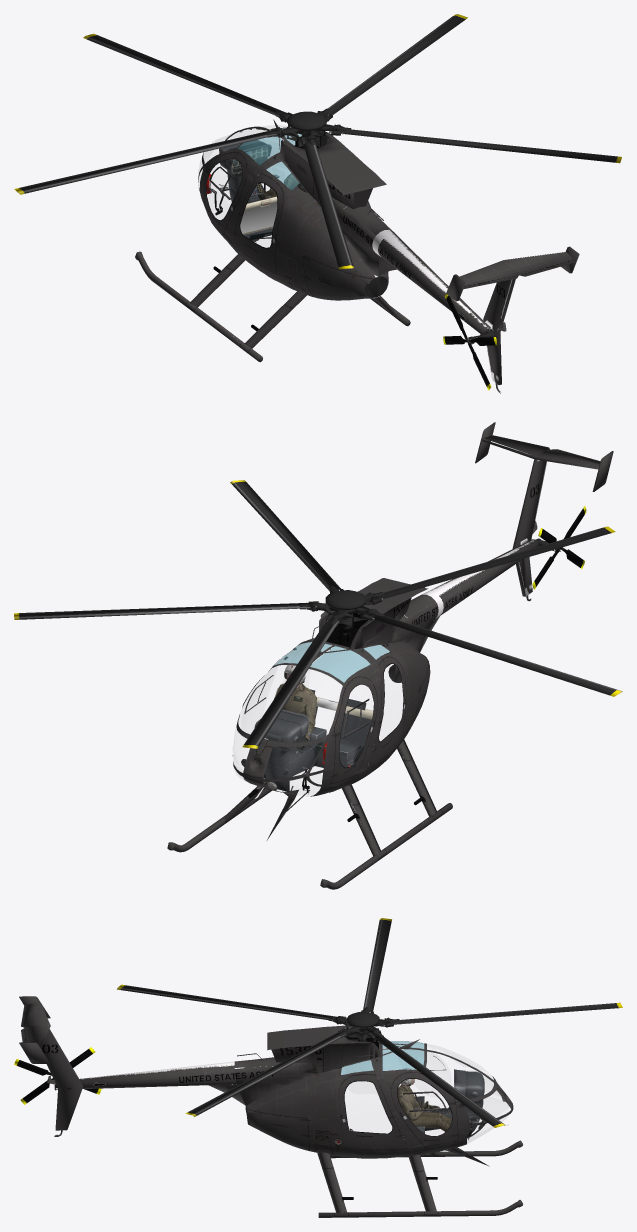
The picture shows the model from 3 angles, top to bottom: view 1: azimuth 30°, elevation 25°; view 2: azimuth 150°, elevation 25°; view 3: azimuth 270°, elevation 25°; orthographic projection. The views are drawn at different scales.
Visible parts, largest first — view 1: ext_fuselage1, rotor_main, ext_tail, ext_fuselage2, int_console, glasss_grn, int_seats2, rotor_tail, glass; view 2: rotor_main, ext_fuselage1, ext_fuselage2, ext_tail, int_console, int_seats2, glasss_grn, int_pilotR, glass, rotor_tail; view 3: ext_fuselage1, rotor_main, ext_tail, ext_fuselage2, glass, int_pilotR, glasss_grn, int_console, rotor_tail.
Part boxes in pixels (x1,y1,x2,y2): ext_fuselage1: (198,119,391,298); rotor_main: (14,14,621,269); ext_tail: (344,204,579,393); ext_fuselage2: (135,127,410,362); int_console: (206,139,271,203); glasss_grn: (238,128,301,190); int_seats2: (233,196,333,240); rotor_tail: (443,294,497,390); glass: (198,125,286,218); rotor_main: (14,480,622,748); ext_fuselage1: (232,587,438,840); ext_fuselage2: (167,578,452,889); ext_tail: (404,422,613,652); int_console: (254,709,327,791); int_seats2: (275,687,373,767); glasss_grn: (274,638,389,682); int_pilotR: (241,663,316,778); glass: (233,666,310,781); rotor_tail: (532,506,586,589); ext_fuselage1: (235,1030,508,1166); rotor_main: (117,918,622,1127); ext_tail: (19,996,280,1136); ext_fuselage2: (246,1025,522,1217); glass: (348,1044,509,1143); int_pilotR: (397,1068,472,1135); glasss_grn: (341,1041,424,1074); int_console: (425,1069,484,1132); rotor_tail: (14,1047,101,1104).
Bounding box in the file's own units: 7.48 × 2.89 × 9.2.
9 materials, 9 textured.
